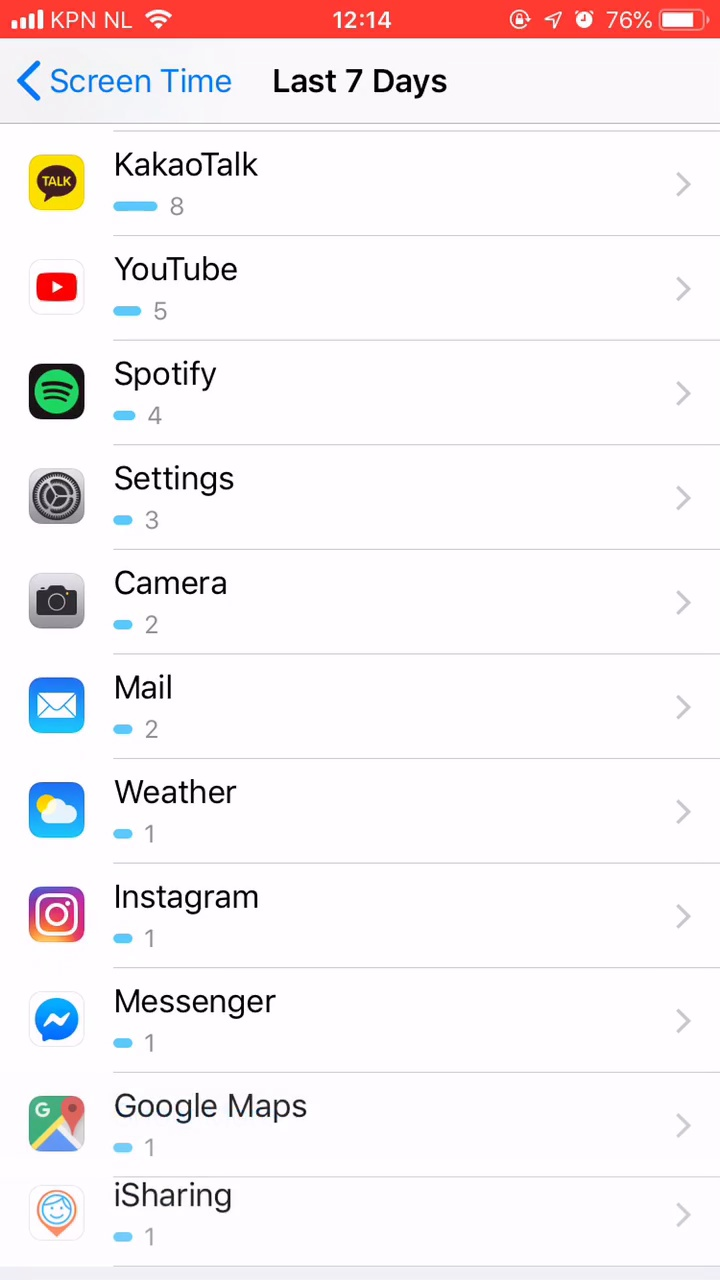pick_app: (20, 867, 442, 974), (14, 450, 407, 553), (20, 974, 400, 1075), (12, 349, 393, 449), (25, 764, 398, 864), (17, 133, 371, 238), (18, 244, 384, 344), (20, 1082, 401, 1177), (11, 566, 407, 652), (21, 657, 340, 761), (25, 1183, 368, 1252)
week: (262, 63, 460, 109)
